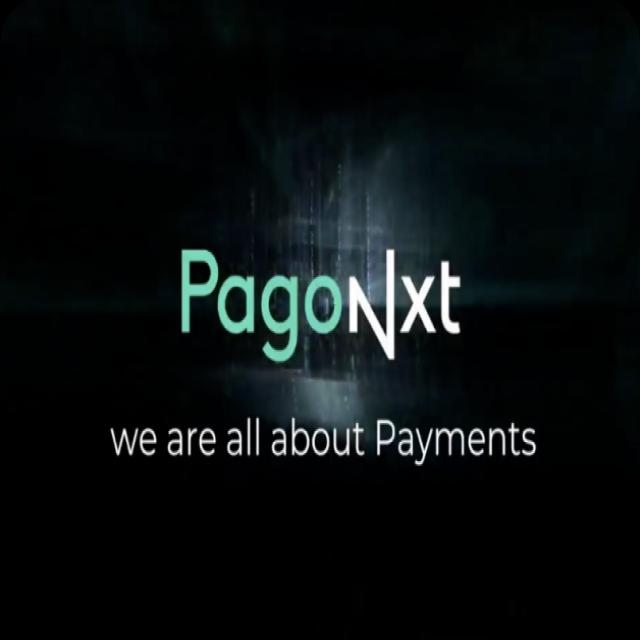pago_nxt: (181, 248, 463, 366)
